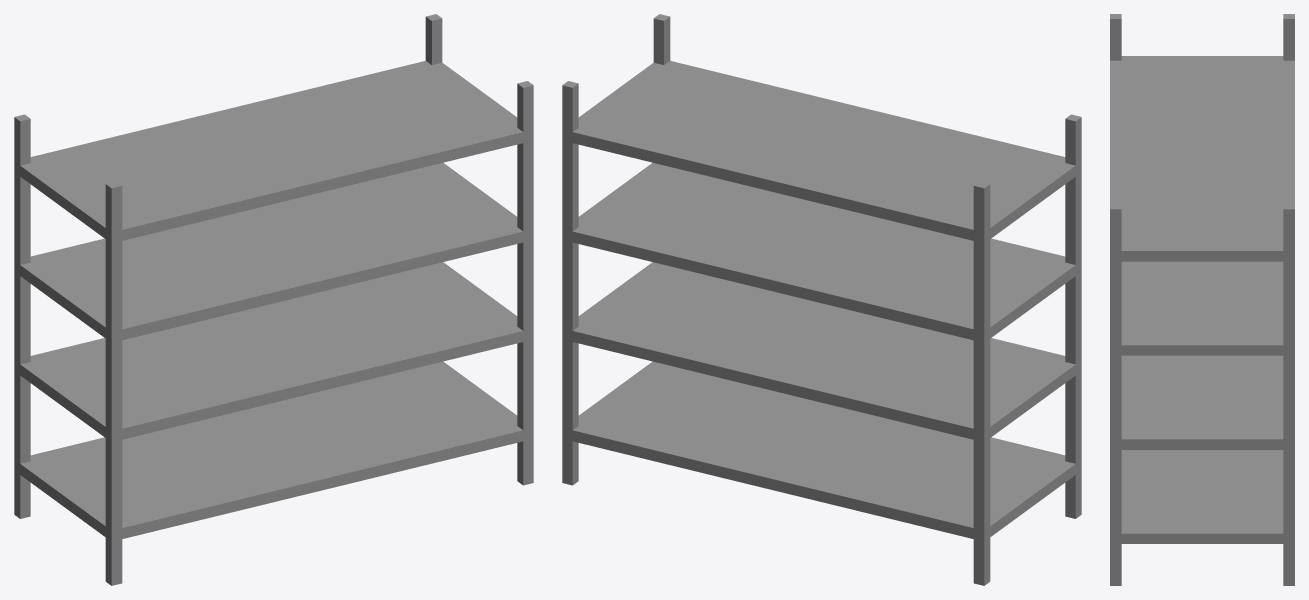
Rendered from EmptyShelf.glb.
3 views of the same model, side by side, from view 1: azimuth 30°, elevation 25°; view 2: azimuth 150°, elevation 25°; view 3: azimuth 270°, elevation 25° (orthographic). The views are drawn at different scales.
Visible parts, largest first — view 1: model; view 2: model; view 3: model.
Boxes of the visible parts, x1=… form: model: x1=14, y1=14, x2=533, y2=585; model: x1=562, y1=14, x2=1081, y2=585; model: x1=1110, y1=14, x2=1294, y2=585.
Bounding box in the file's own units: 4 × 3.6 × 1.6.
1 material, 1 textured.
